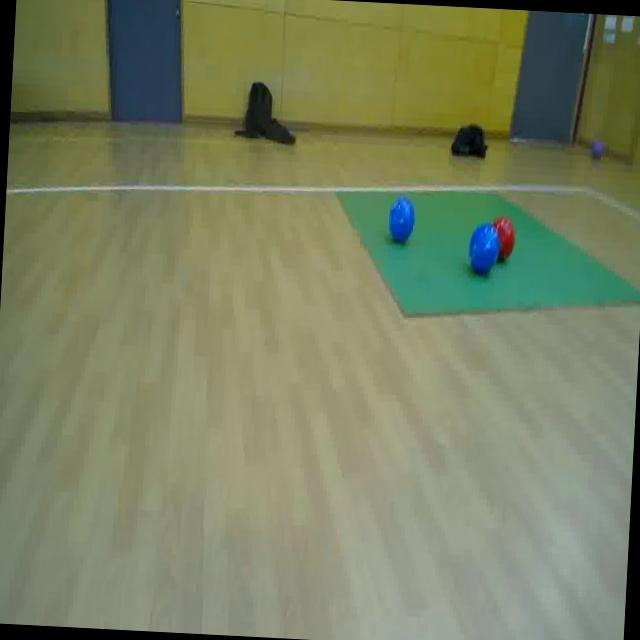blue_ball: (467, 221, 501, 278), (386, 192, 418, 246)
purple_ball: (590, 138, 604, 164)
red_ball: (492, 210, 518, 261)
